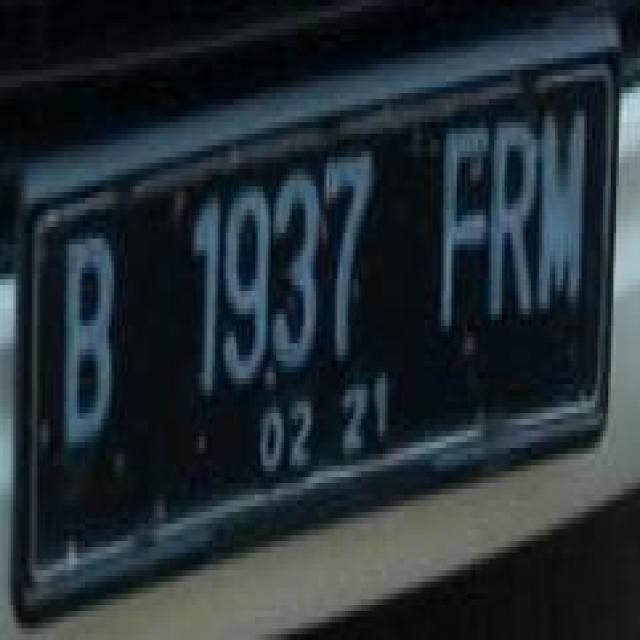1: (183, 181, 224, 415)
3: (271, 151, 325, 390)
7: (321, 139, 378, 368)
9: (223, 166, 272, 413)
B: (55, 215, 120, 466)
F: (437, 109, 495, 335)
M: (533, 92, 591, 323)
R: (487, 97, 542, 323)
